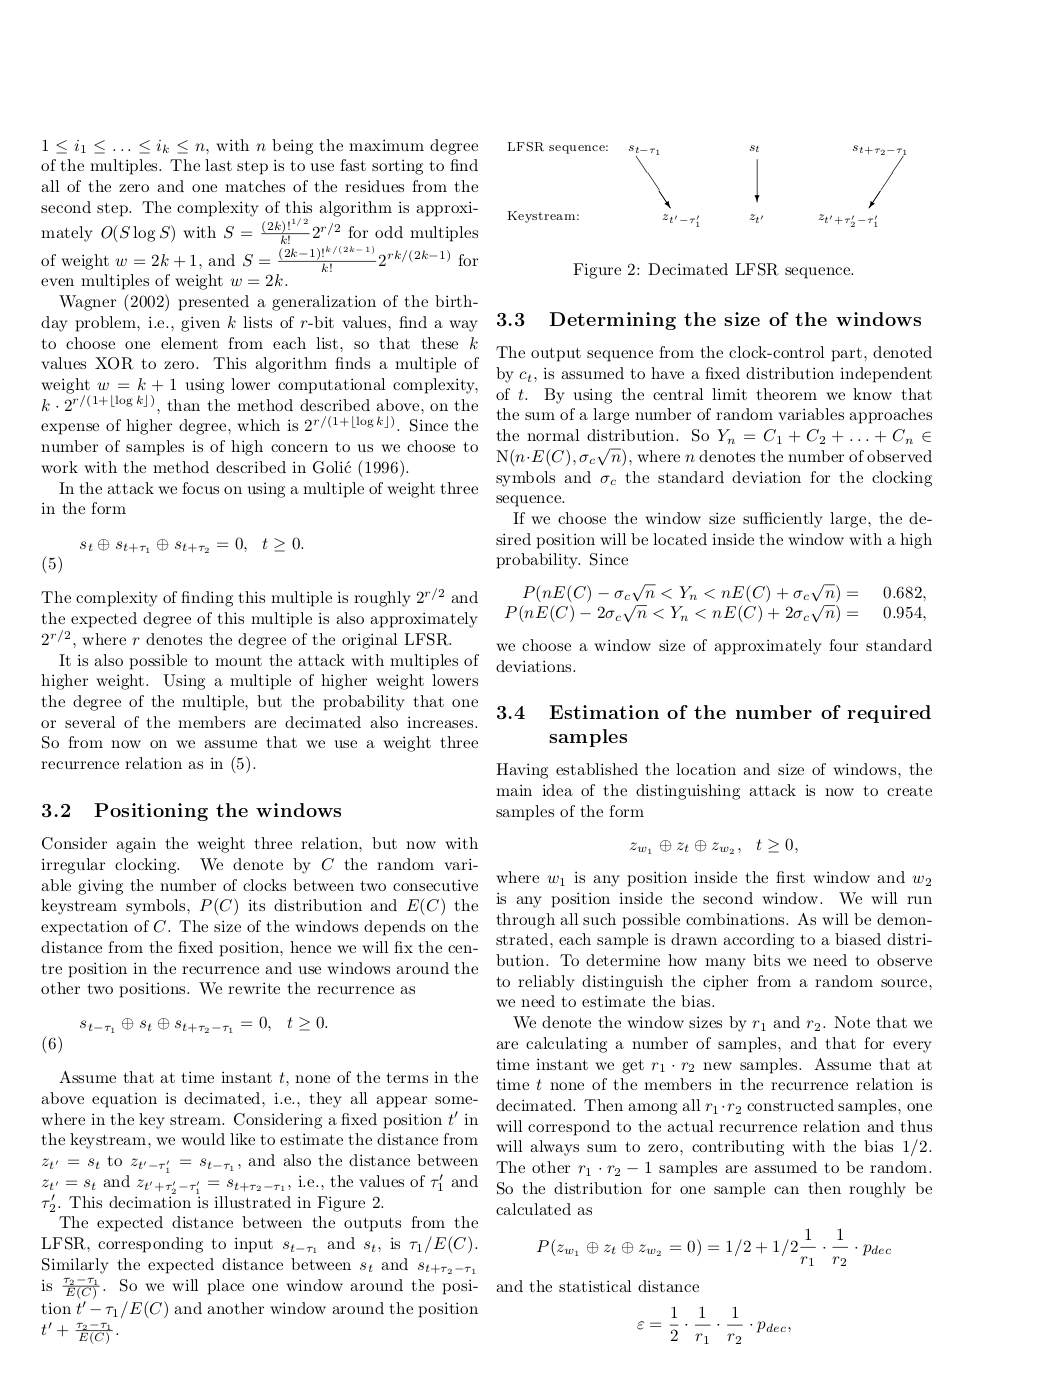figure: (507, 140, 906, 227)
formula: (504, 582, 925, 623), (536, 1227, 890, 1266), (637, 1305, 790, 1344), (80, 1015, 327, 1033), (80, 536, 303, 553), (629, 837, 797, 854)
